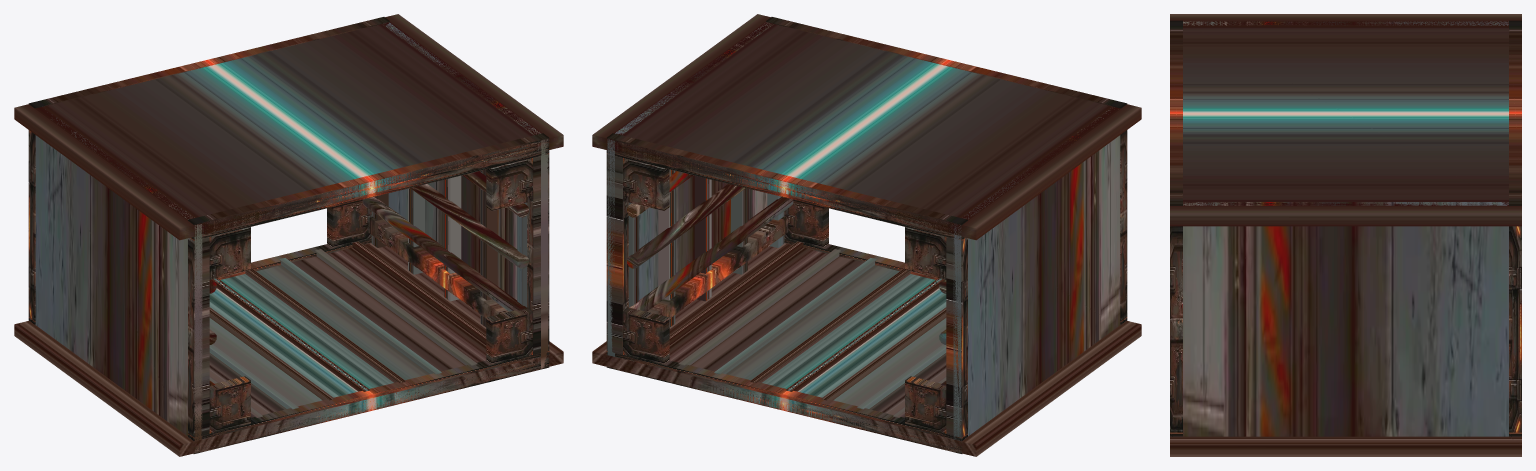
The model's file is hangar_koridor_demirhan.glb.
The picture shows the model from 3 angles, left to right: view 1: azimuth 30°, elevation 25°; view 2: azimuth 150°, elevation 25°; view 3: azimuth 270°, elevation 25°; orthographic projection. The views are drawn at different scales.
Visible parts, largest first — view 1: LOD0_koridor; view 2: LOD0_koridor; view 3: LOD0_koridor.
Part boxes in pixels (x1,y1,x2,y2): LOD0_koridor: (14, 14, 563, 456); LOD0_koridor: (592, 14, 1141, 456); LOD0_koridor: (1170, 14, 1521, 456).
Bounding box in the file's own units: 10.2 × 5.84 × 7.6.
1 material, 1 textured.
